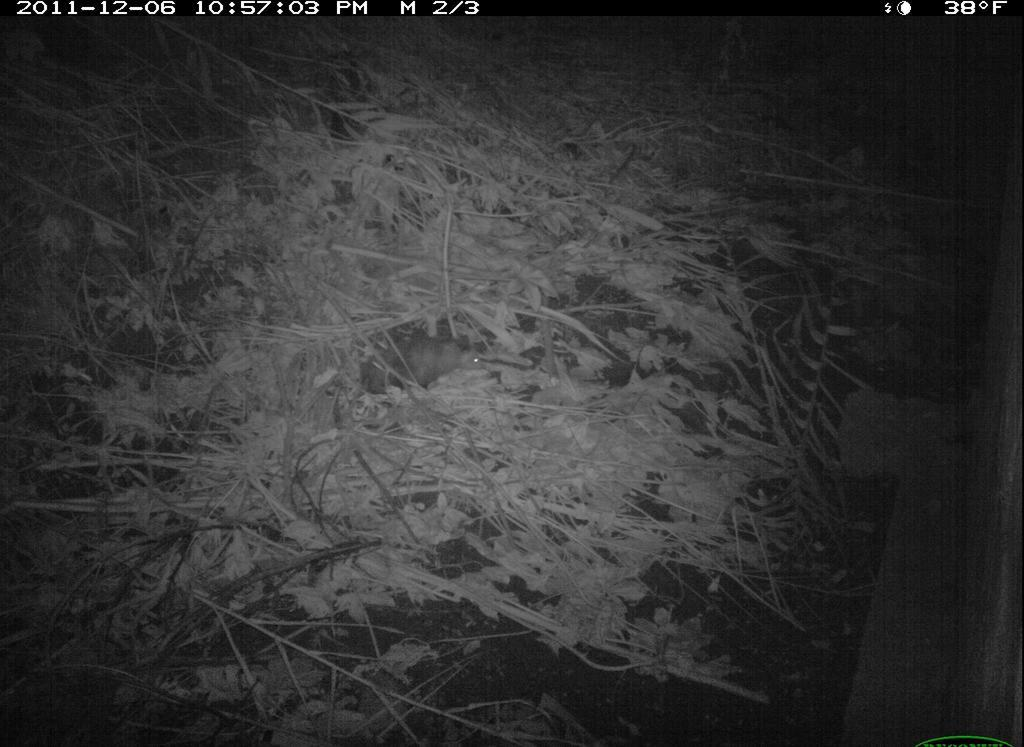opossum: (360, 324, 493, 408)
